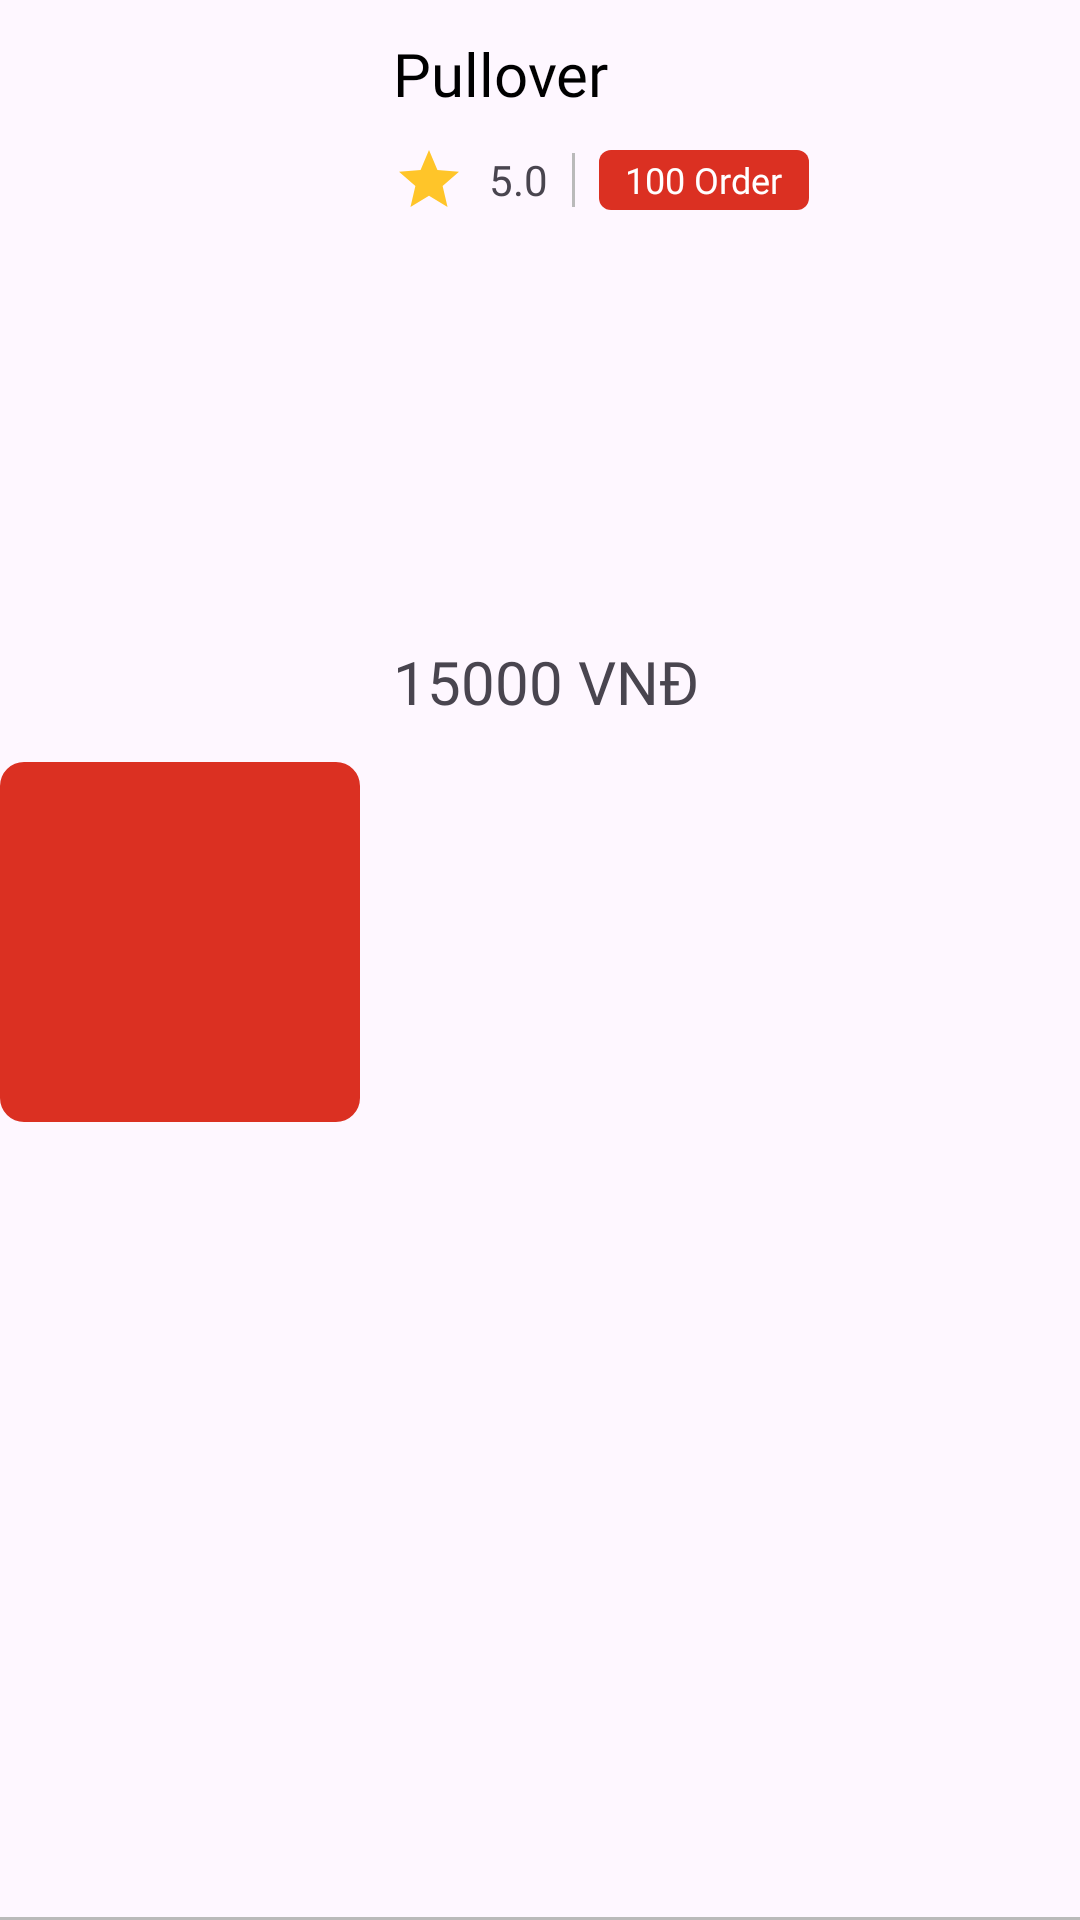

Icon click points for this 1080*1920 phone screenshot, format point (x, y):
star: point (429, 178)
